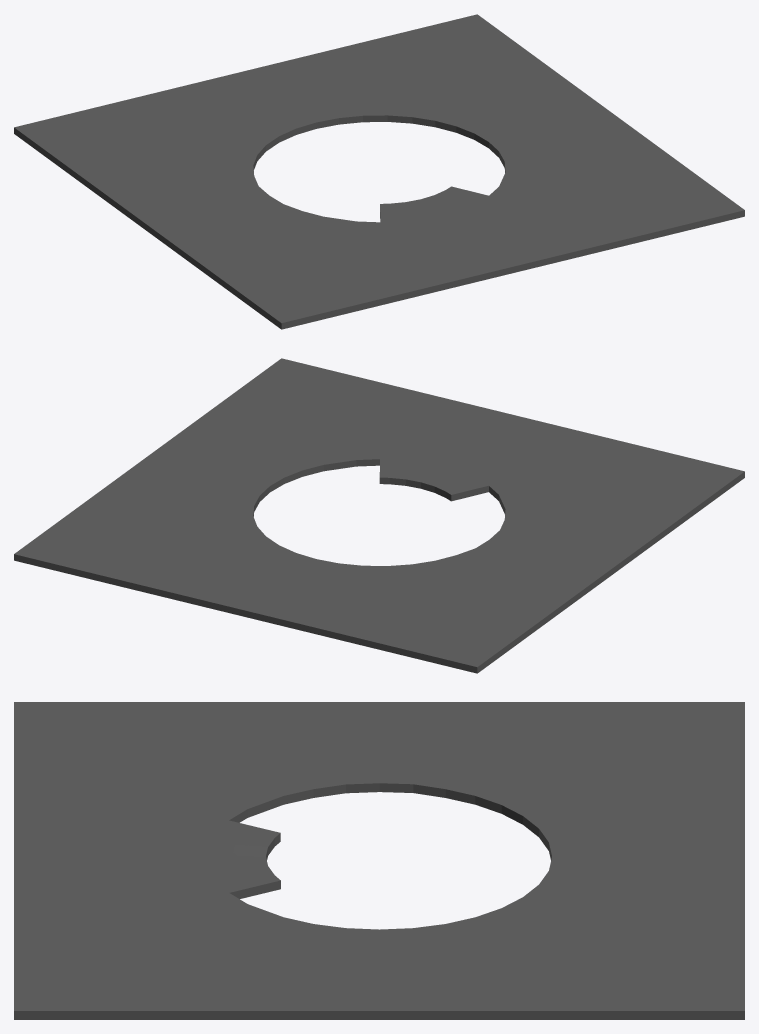
File: SG 2 - Gray.glb
3 renders of one model, top to bottom at view 1: azimuth 30°, elevation 25°; view 2: azimuth 150°, elevation 25°; view 3: azimuth 270°, elevation 25°, orthographic. The views are drawn at different scales.
Parts seen in each view (by area): view 1: SG-2-Upper.Foundation; view 2: SG-2-Upper.Foundation; view 3: SG-2-Upper.Foundation.
Part boxes in pixels (left/top/right/bottom): SG-2-Upper.Foundation: left=14, top=14, right=744, bottom=329; SG-2-Upper.Foundation: left=14, top=358, right=744, bottom=673; SG-2-Upper.Foundation: left=14, top=702, right=744, bottom=1019.
Size of what is drawn, in the model's own units: 15 by 0.2 by 15.
1 material, 1 textured.
